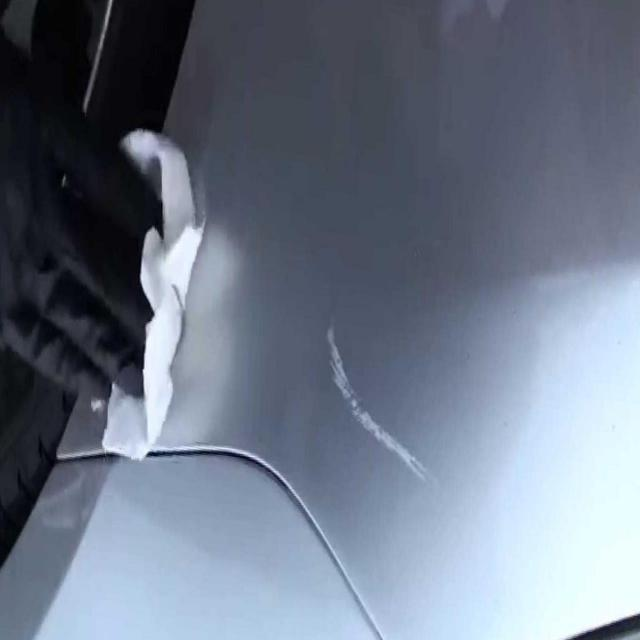scratch: (320, 306, 434, 494)
